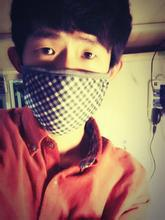OK: (20, 30, 113, 125)
